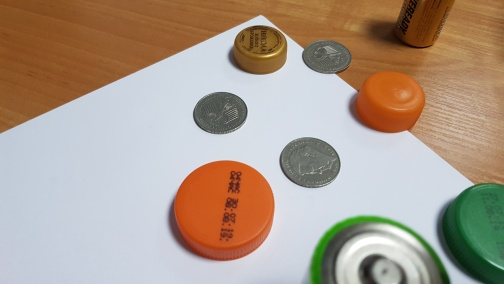coin: (279, 137, 341, 188), (193, 92, 248, 135), (302, 39, 353, 74)
